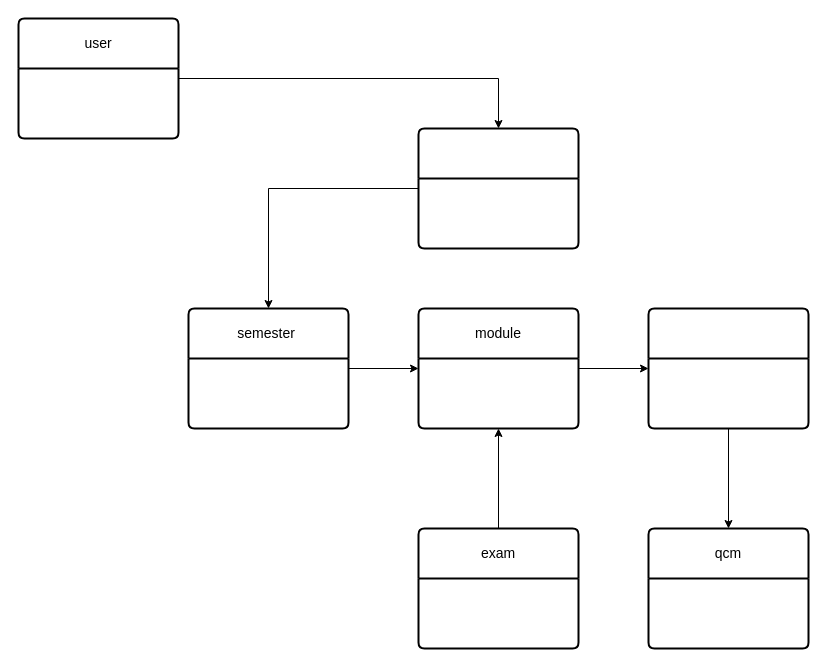
Image size: 826x666. Some labels were removed from this diagram. Here are the shapes that lost their labels. From the top down, the centre of each, then its label:
At [498,188]: "year".
At [728,368]: "cours".
